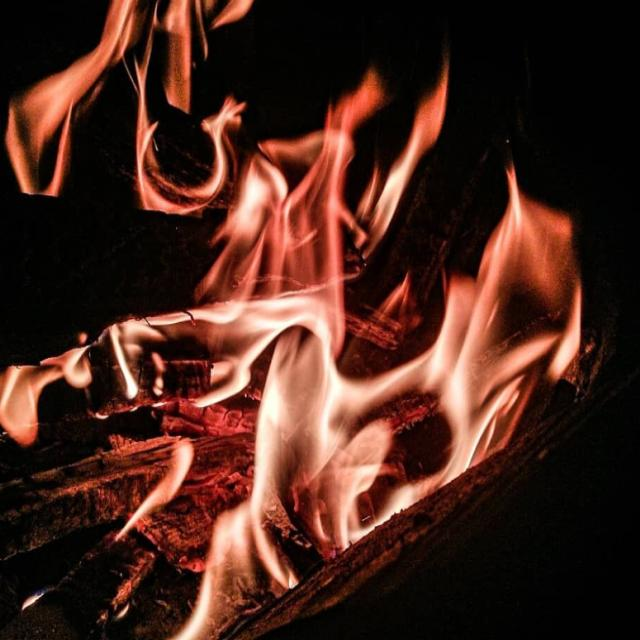fire: (169, 165, 582, 640), (0, 276, 345, 447), (194, 68, 390, 328), (6, 0, 147, 197), (137, 0, 253, 214), (356, 58, 448, 258), (116, 444, 191, 539)
